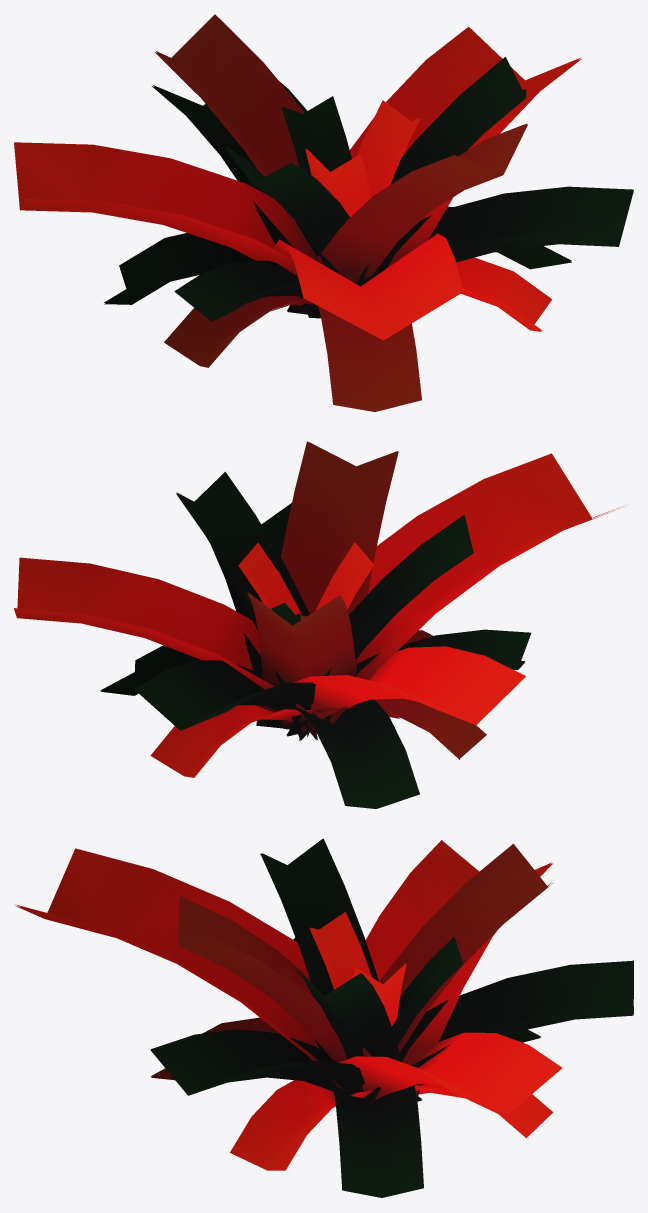
The model's file is Fern02_high.FBX.
3 renders of one model, top to bottom at view 1: azimuth 30°, elevation 25°; view 2: azimuth 150°, elevation 25°; view 3: azimuth 270°, elevation 25°, orthographic. The views are drawn at different scales.
Visible parts, largest first — view 1: Fern02_high; view 2: Fern02_high; view 3: Fern02_high.
Boxes of the visible parts, x1=… form: Fern02_high: x1=14, y1=14, x2=633, y2=411; Fern02_high: x1=14, y1=441, x2=625, y2=808; Fern02_high: x1=15, y1=838, x2=633, y2=1197.
Size of the model in its own units: 1.78 by 0.7266 by 1.86.
